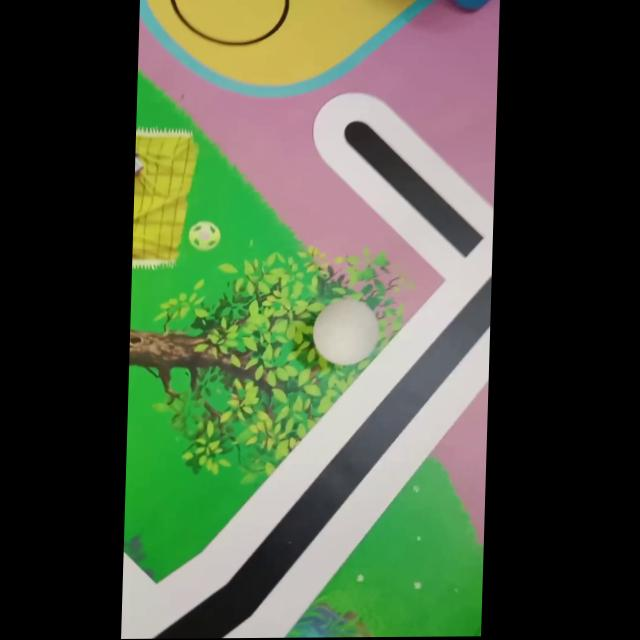white ball: (311, 297, 381, 366)
